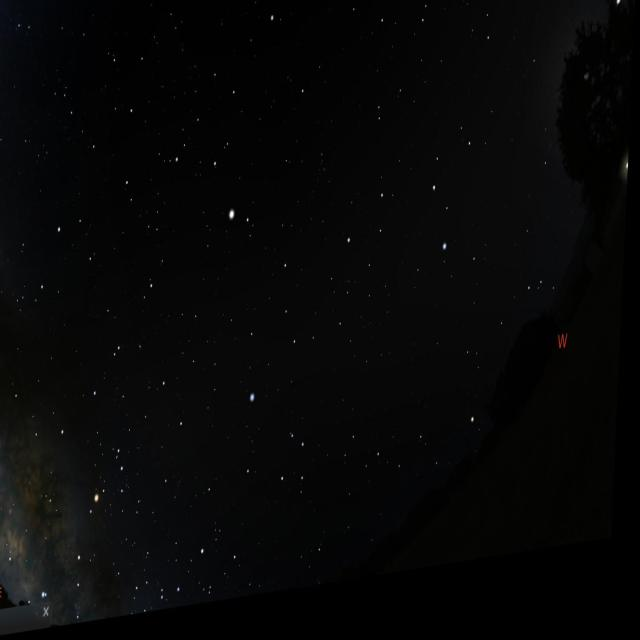bootes: (178, 44, 258, 248)
leo: (341, 132, 482, 297)
lyra: (14, 0, 62, 46)
scorpius: (42, 431, 146, 630)
